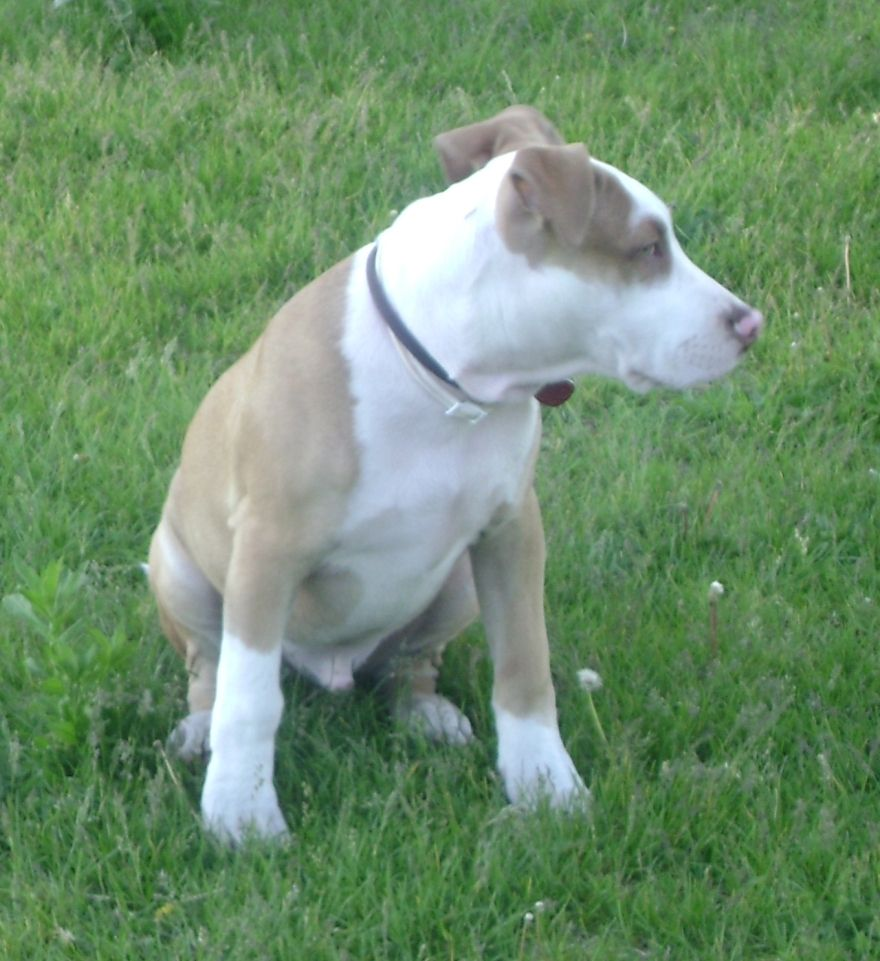am_pit_bull_terrier: (141, 103, 765, 850)
